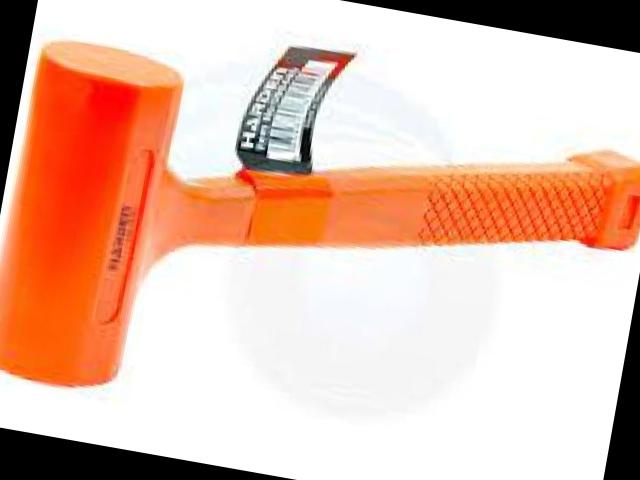hammer: (0, 28, 640, 480)
